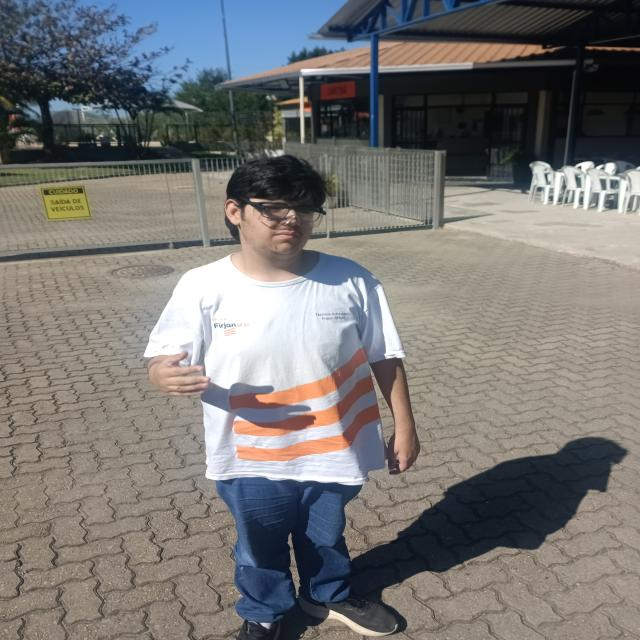oculos-epi: (237, 197, 326, 226)
